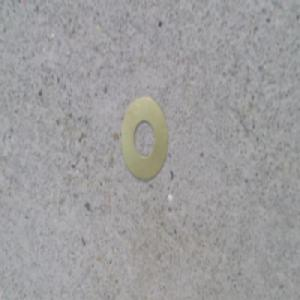Washer: (121, 103, 170, 187)
